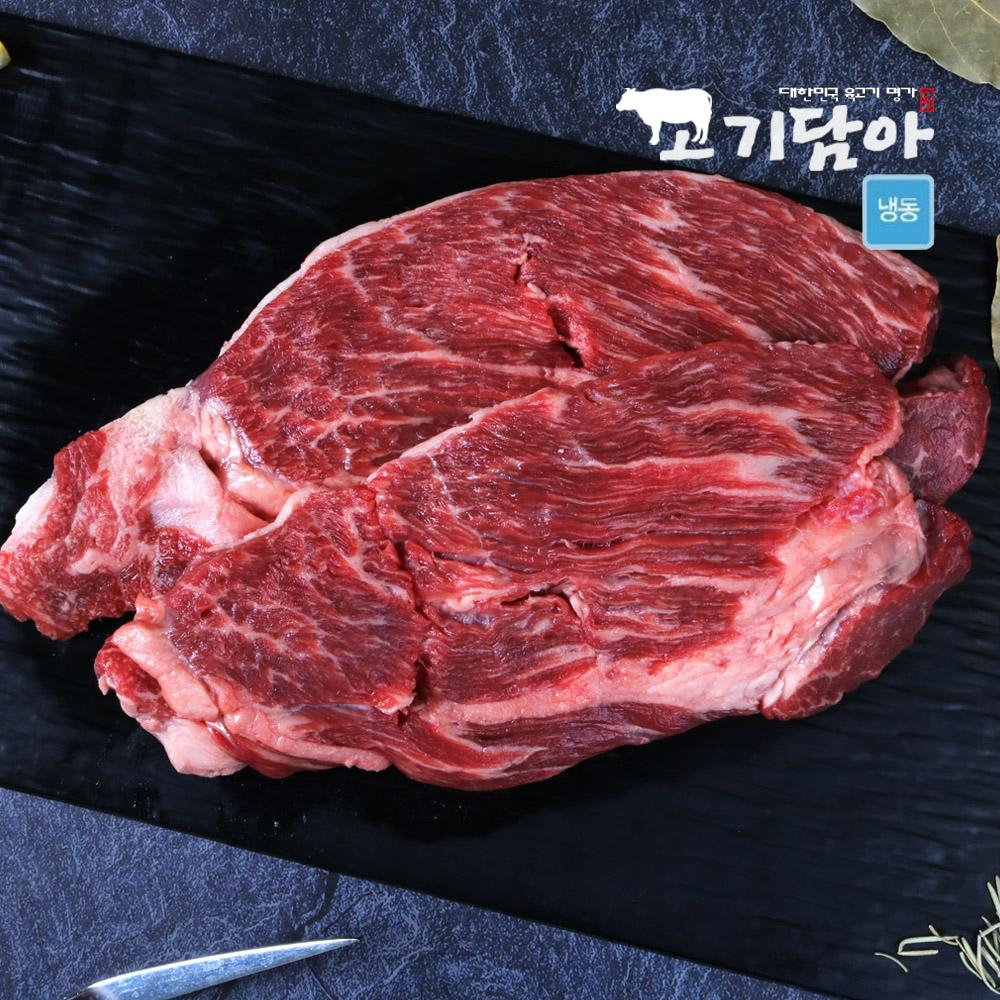beef: (481, 467, 986, 1000)
